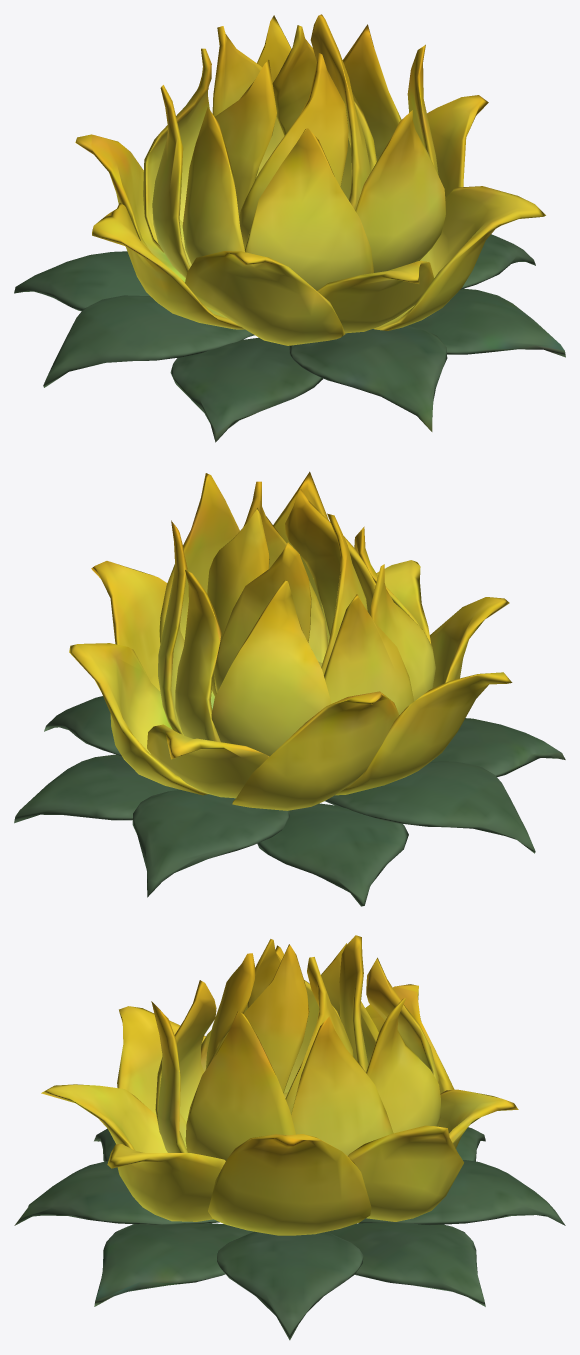
The model's file is SM_Lotus_S_d36d73.glb.
3 renders of one model, top to bottom at view 1: azimuth 30°, elevation 25°; view 2: azimuth 150°, elevation 25°; view 3: azimuth 270°, elevation 25°, orthographic. The views are drawn at different scales.
Size of the model in its own units: 1.36 by 0.8316 by 1.36.
1 material, 1 textured.
